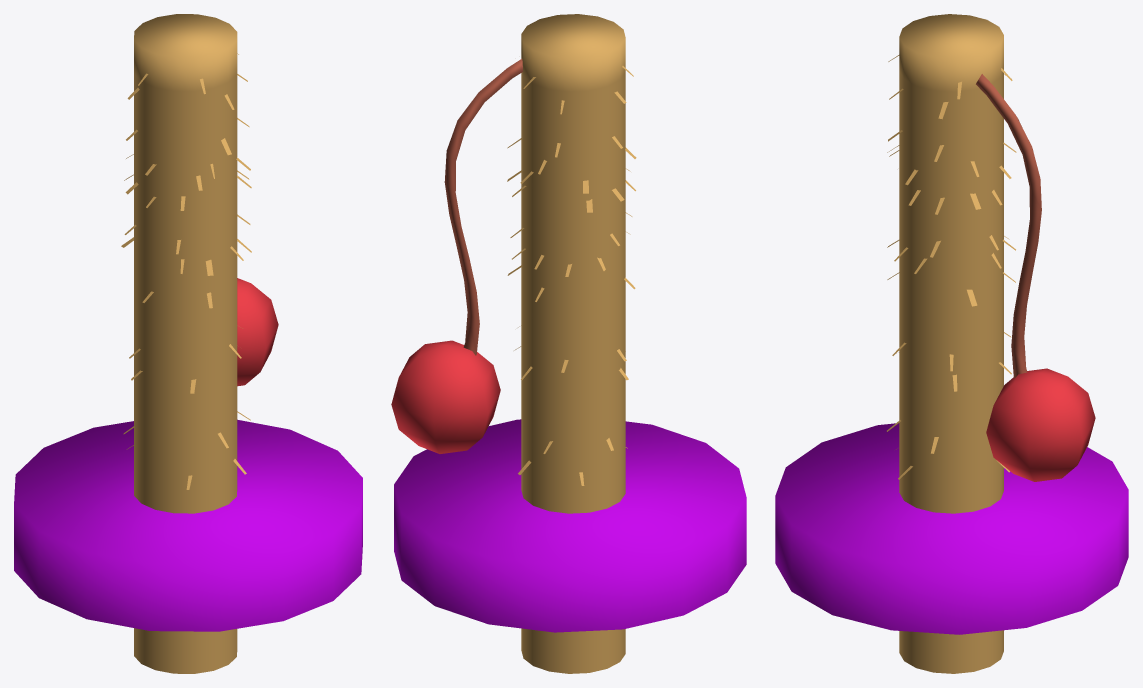
File: Scratcher Damage.fbx
3 views of the same model, side by side, from view 1: azimuth 30°, elevation 25°; view 2: azimuth 150°, elevation 25°; view 3: azimuth 270°, elevation 25° (orthographic).
Parts seen in each view (by area): view 1: Cat Scratcher.001; view 2: Cat Scratcher.001; view 3: Cat Scratcher.001.
Boxes of the visible parts, bbox=[...] form: Cat Scratcher.001: bbox=[14, 14, 362, 673]; Cat Scratcher.001: bbox=[391, 14, 746, 673]; Cat Scratcher.001: bbox=[775, 14, 1128, 673].
Size of the model in its own units: 61.85 by 119 by 61.85.
